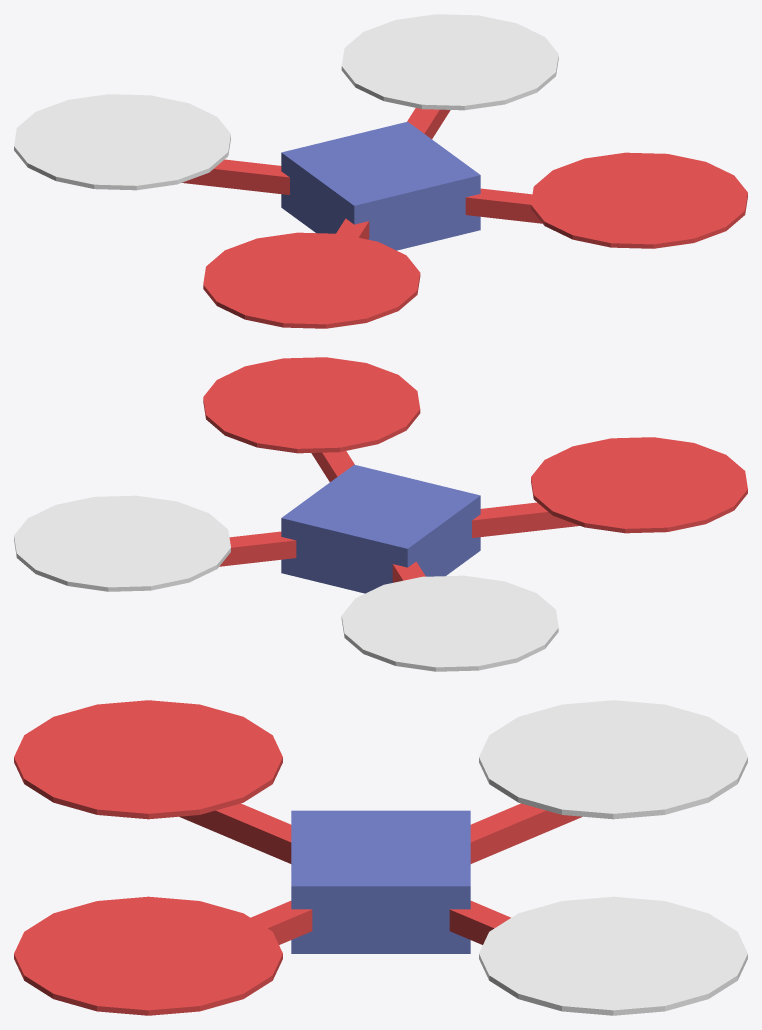
File: quad_4.glb
3 renders of one model, top to bottom at view 1: azimuth 30°, elevation 25°; view 2: azimuth 150°, elevation 25°; view 3: azimuth 270°, elevation 25°, orthographic. The views are drawn at different scales.
Bounding box in the file's own units: 2.46 × 0.25 × 2.46.
